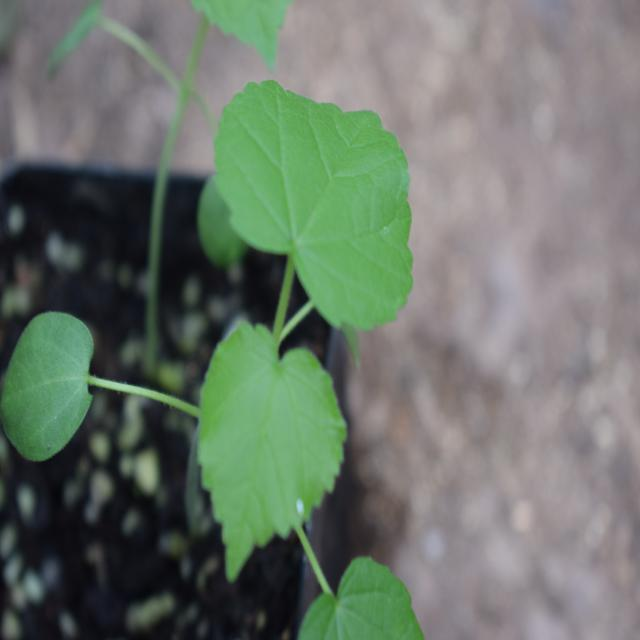abutilon theophrasti: (74, 82, 449, 629)
